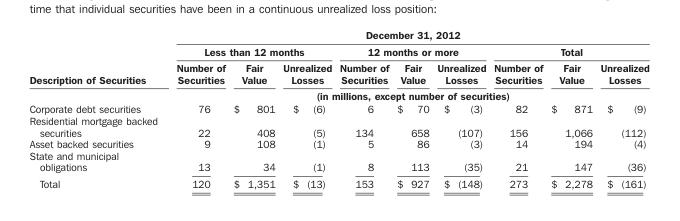table: (28, 28, 648, 189)
table column: (28, 28, 166, 189), (166, 28, 228, 189), (278, 28, 335, 189), (335, 28, 392, 189), (432, 28, 489, 189), (489, 28, 546, 189), (595, 28, 648, 189), (228, 28, 278, 189), (546, 28, 595, 189), (392, 28, 432, 189)
table column header: (28, 28, 648, 102)
table row: (28, 59, 648, 87), (28, 149, 648, 175), (28, 114, 648, 137), (28, 42, 648, 59), (28, 87, 648, 102), (28, 28, 648, 42), (28, 175, 648, 189), (28, 102, 648, 114), (28, 137, 648, 149)
table spanning cell: (28, 28, 166, 102), (166, 87, 648, 102), (166, 28, 648, 42), (166, 42, 335, 59), (489, 42, 648, 59), (335, 42, 489, 59)
